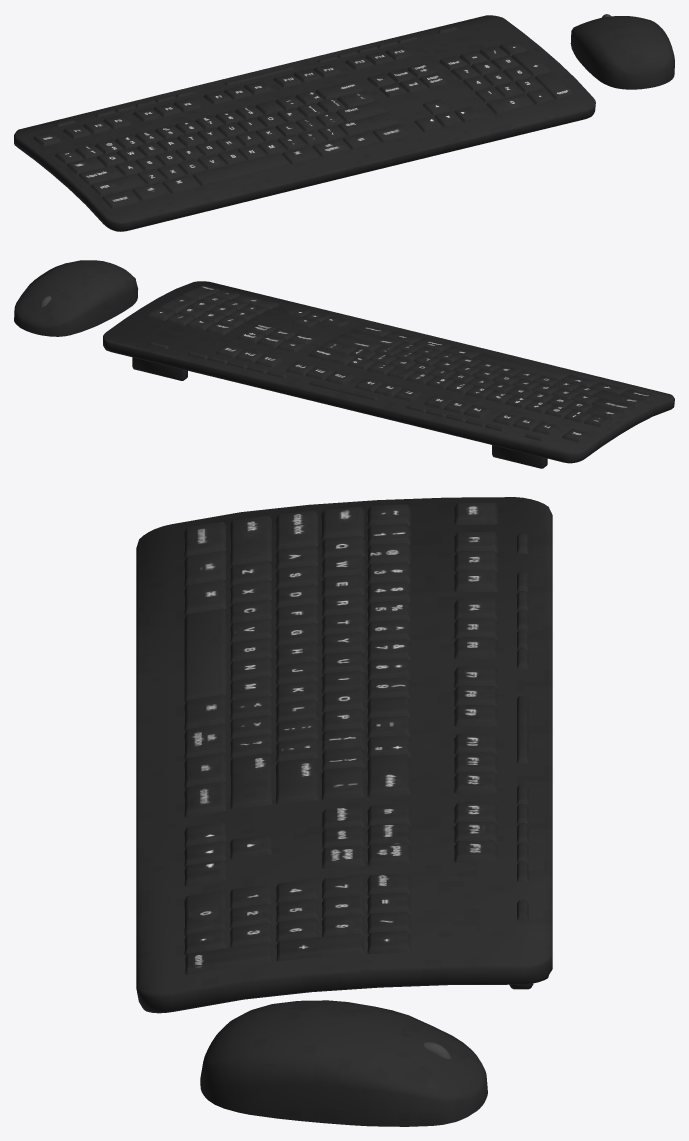
File: teclado-mouse.glb
3 renders of one model, top to bottom at view 1: azimuth 30°, elevation 25°; view 2: azimuth 150°, elevation 25°; view 3: azimuth 270°, elevation 25°, orthographic. The views are drawn at different scales.
Visible parts, largest first — view 1: SM_KM_LP; view 2: SM_KM_LP; view 3: SM_KM_LP.
Boxes of the visible parts, box(x1,y1,x2,y2) form: SM_KM_LP: box(14, 14, 674, 231); SM_KM_LP: box(14, 260, 674, 468); SM_KM_LP: box(136, 497, 552, 1126).
Size of the model in its own units: 53.39 by 3.1 by 16.25.
1 material, 1 textured.
